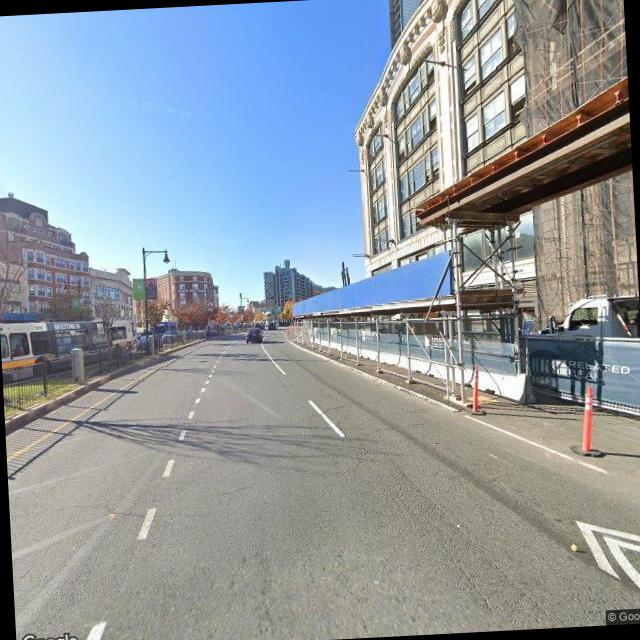crack: (314, 389, 424, 471), (44, 482, 185, 536)
